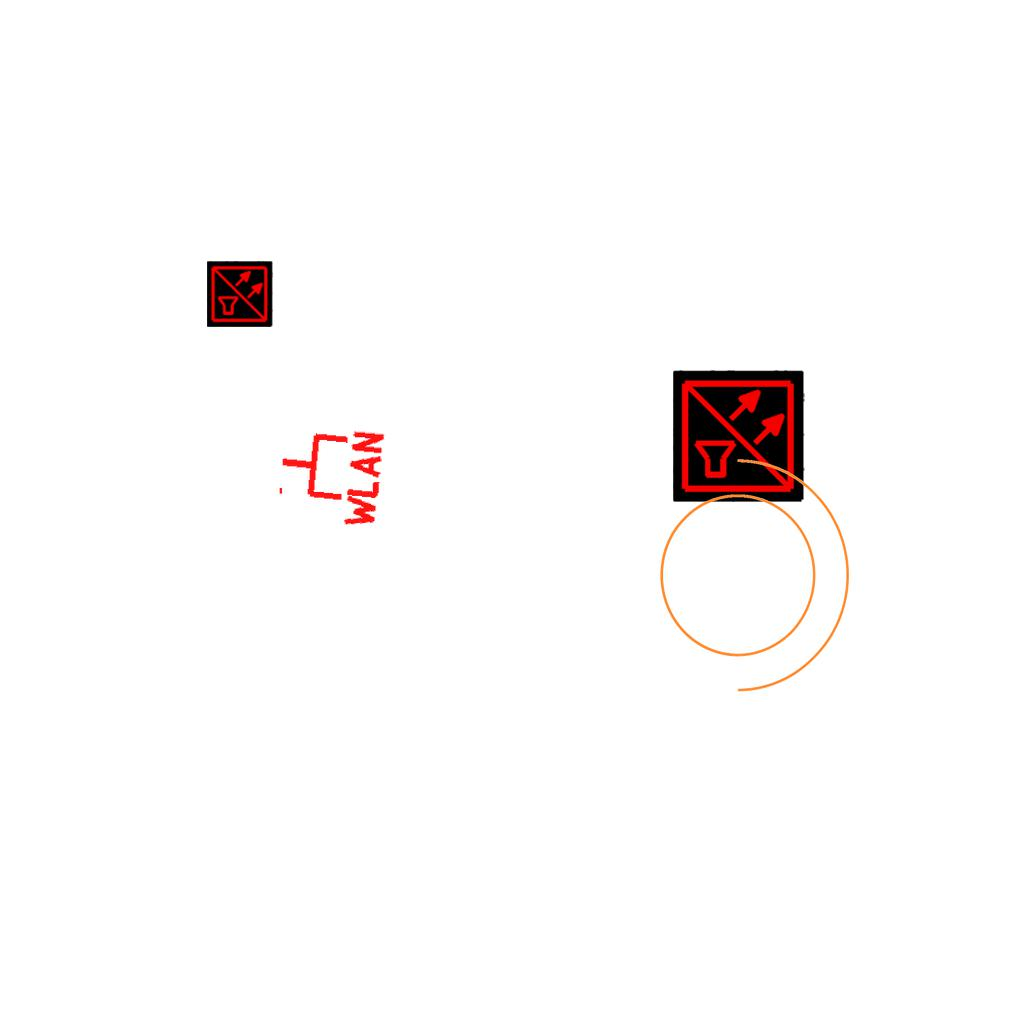OKW_Multisensormelder_(Kombination_optischer_Rauch-Kahlenmonoxid_Waerme-Melder): (673, 370, 805, 502), (207, 261, 273, 327)
Scheinwerfer_fuer_Alarmbeleuchtung: (635, 437, 860, 701)
WLAN: (271, 418, 388, 534)
